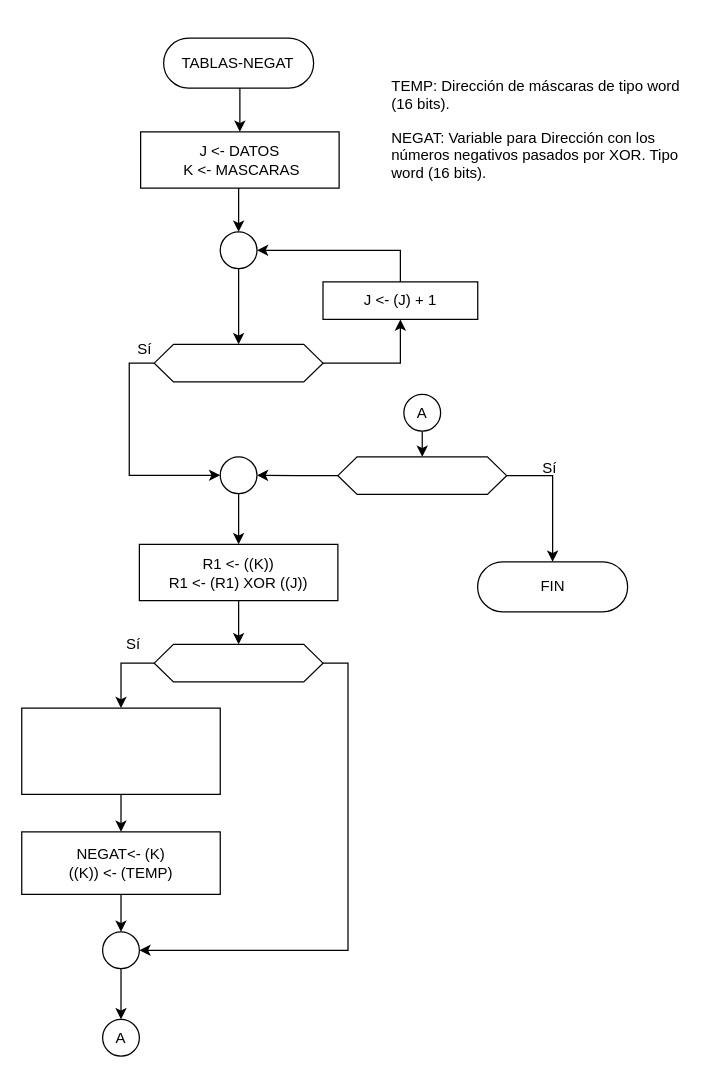
Some shapes in this 711 by 1079 pixel diagram are drawn without their labels. Each missing label, with the centre of its shape:
"((J)) = $80" belongs at (238,362).
"((K)) == $FE" belongs at (422,475).
"(R1) < 0" belongs at (238,662).
"TEMP<- (K) K<- (NEGAT) ((K)) <- (R1) K<- K+1" belongs at (120,750).
